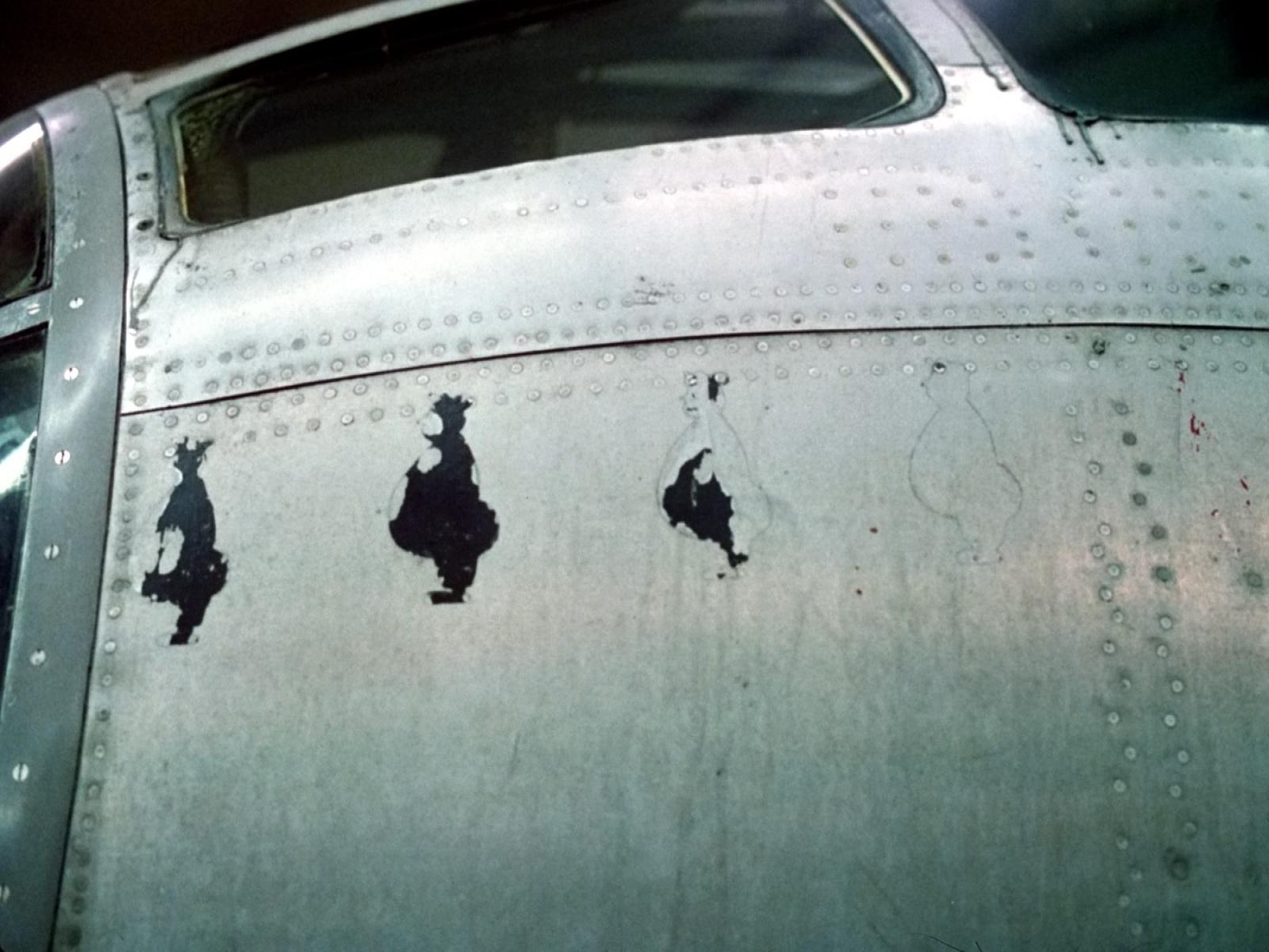Skin_Cover: (389, 394, 498, 603), (141, 440, 227, 644), (663, 447, 746, 566)
